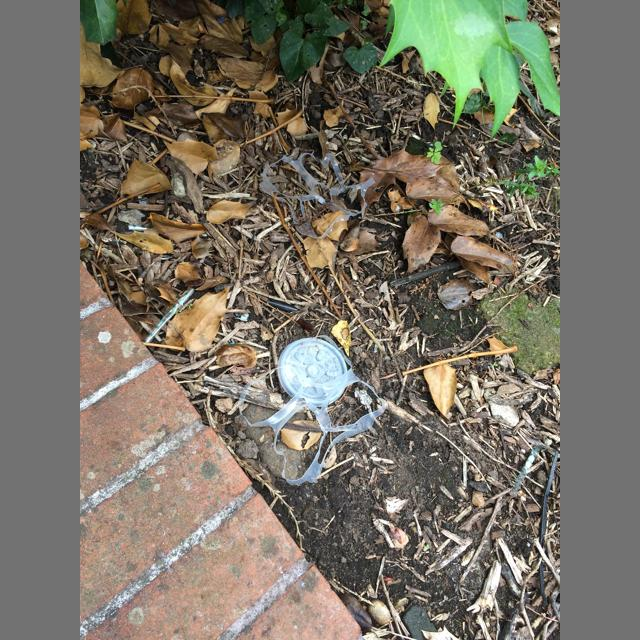litter: (239, 335, 386, 485), (259, 153, 375, 239), (277, 338, 347, 407), (143, 288, 195, 343), (390, 260, 462, 287), (510, 445, 541, 497), (268, 298, 298, 312), (355, 389, 372, 413), (128, 225, 155, 231)
